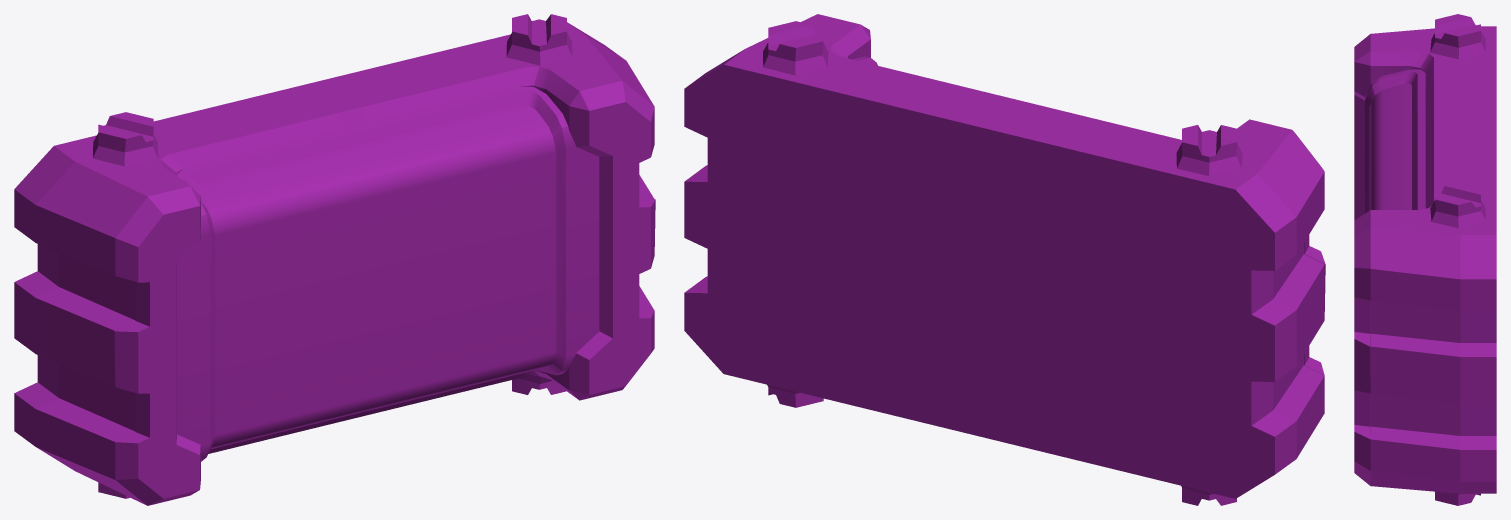
File: obj_warehouse_encryptorsign_pose1.fbx
The picture shows the model from 3 angles, left to right: view 1: azimuth 30°, elevation 25°; view 2: azimuth 150°, elevation 25°; view 3: azimuth 270°, elevation 25°; orthographic projection. The views are drawn at different scales.
Visible parts, largest first — view 1: obj_warehouse_encryptorsign_pose1; view 2: obj_warehouse_encryptorsign_pose1; view 3: obj_warehouse_encryptorsign_pose1.
Boxes of the visible parts, x1,y1,x2,y2 form: obj_warehouse_encryptorsign_pose1: (14,14,655,505); obj_warehouse_encryptorsign_pose1: (684,14,1325,505); obj_warehouse_encryptorsign_pose1: (1354,14,1496,505).
Bounding box in the file's own units: 8 × 4.65 × 1.99.
